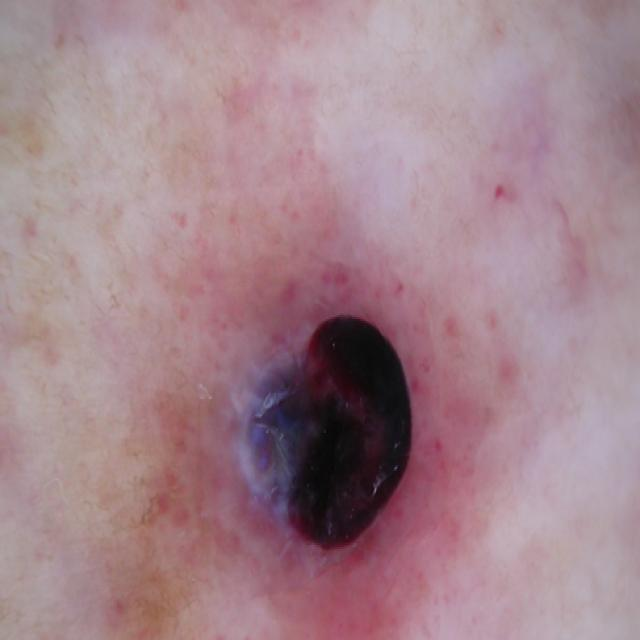Vascular Lesions: (222, 296, 516, 637)
